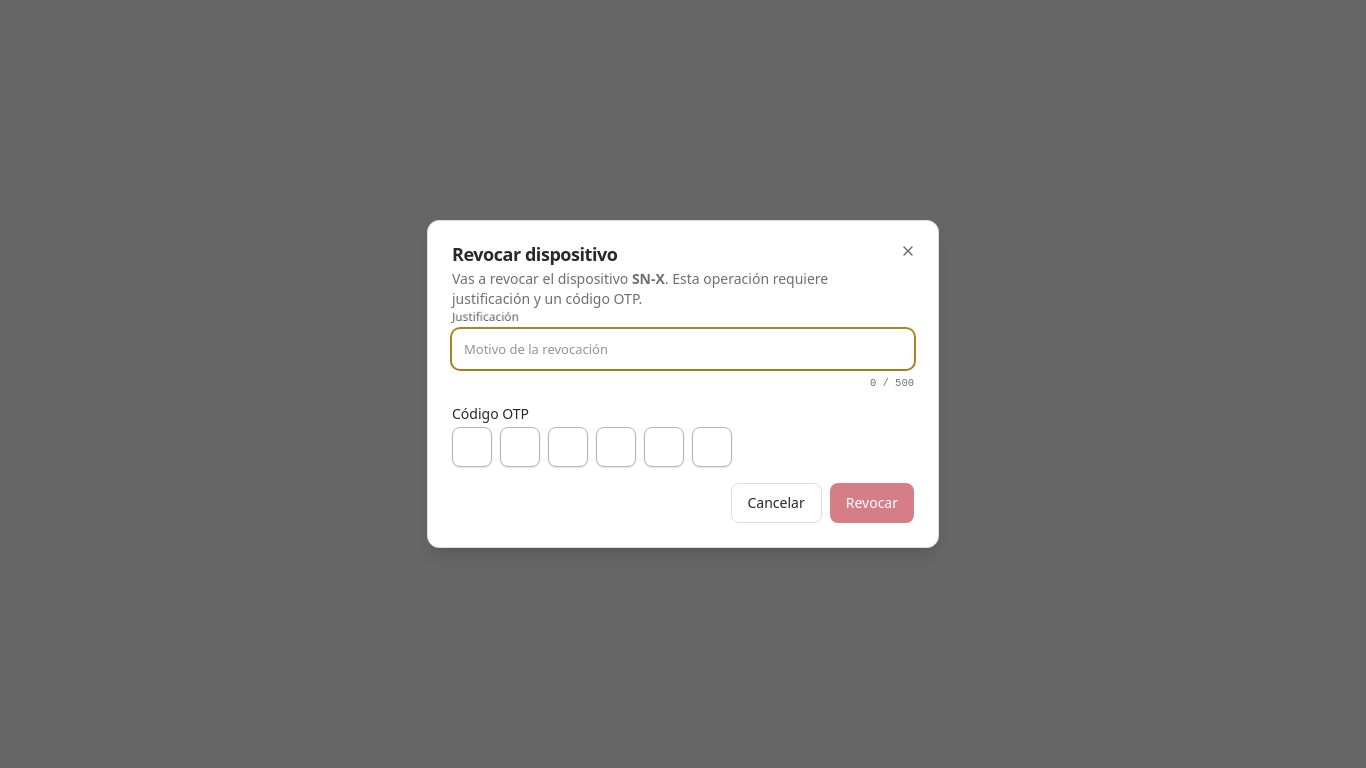
it: DispositivosRevokeDialog › shows conflict error when dispositivo already revoked (API 409)
Type "lost" into the field with test id "revoke-reason" at (683, 349), box x1=452 y1=329 x2=914 y2=369
Type "1" into the field named "Digit" at (472, 447), box x1=452 y1=427 x2=492 y2=467
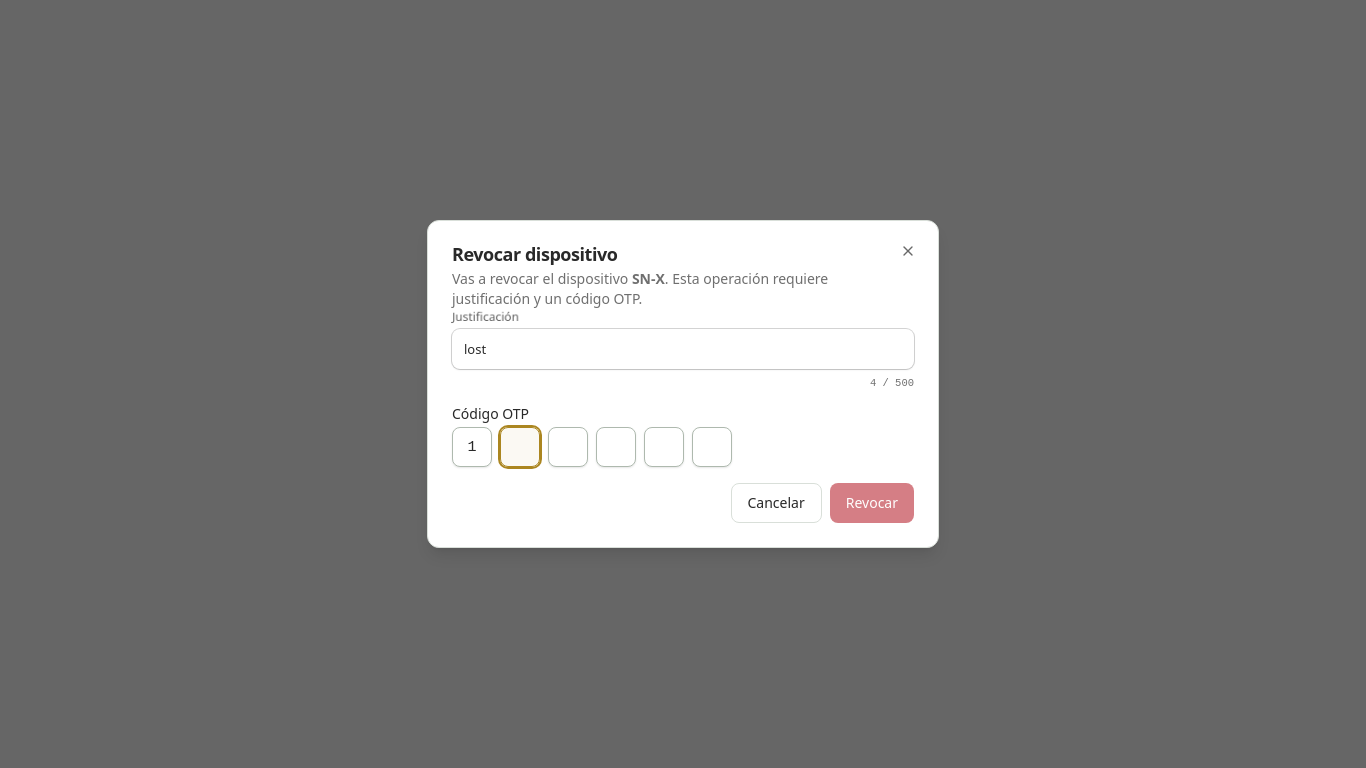
Type "1" into the field named "Digit" at (520, 447), box x1=500 y1=427 x2=540 y2=467
Type "1" into the field named "Digit" at (568, 447), box x1=548 y1=427 x2=588 y2=467
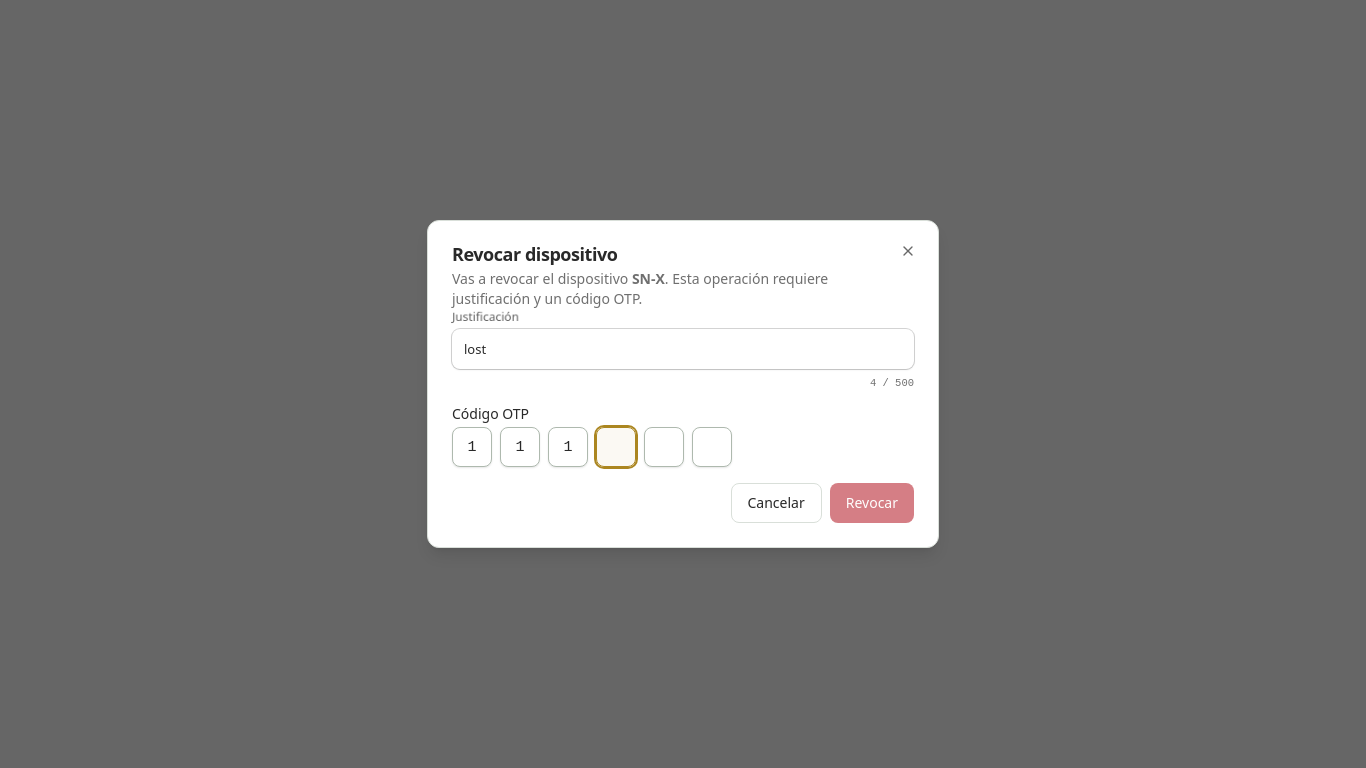
Type "1" into the field named "Digit" at (616, 447), box x1=596 y1=427 x2=636 y2=467
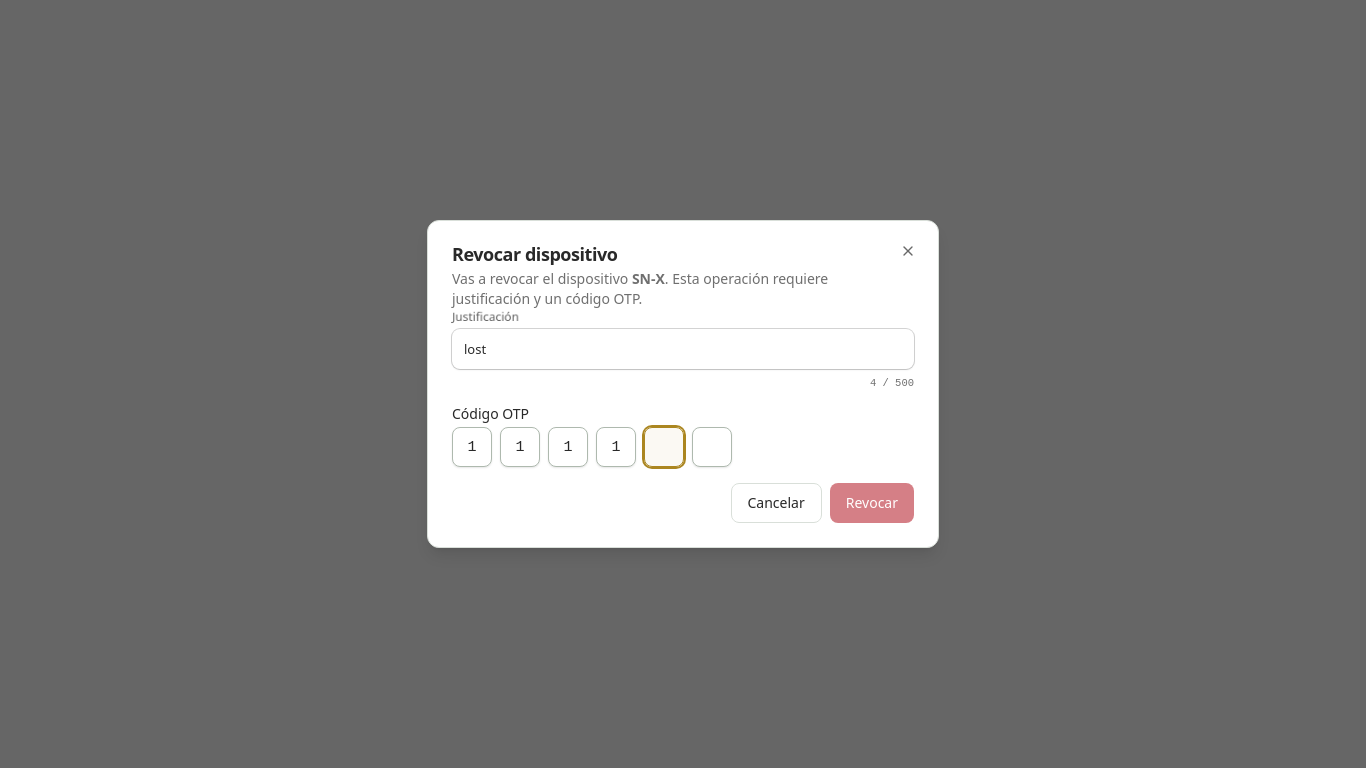
Type "1" into the field named "Digit" at (664, 447), box x1=644 y1=427 x2=684 y2=467
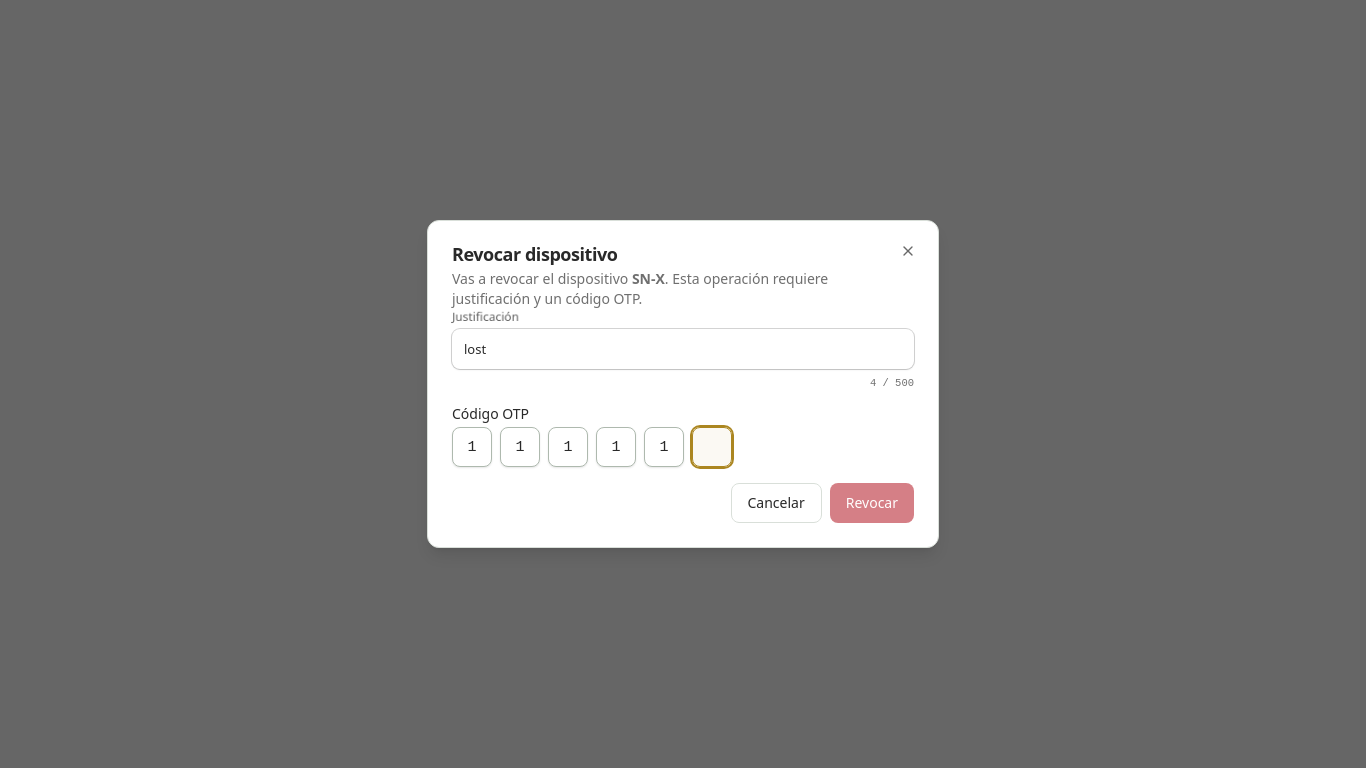
Type "1" into the field named "Digit" at (712, 447), box x1=692 y1=427 x2=732 y2=467
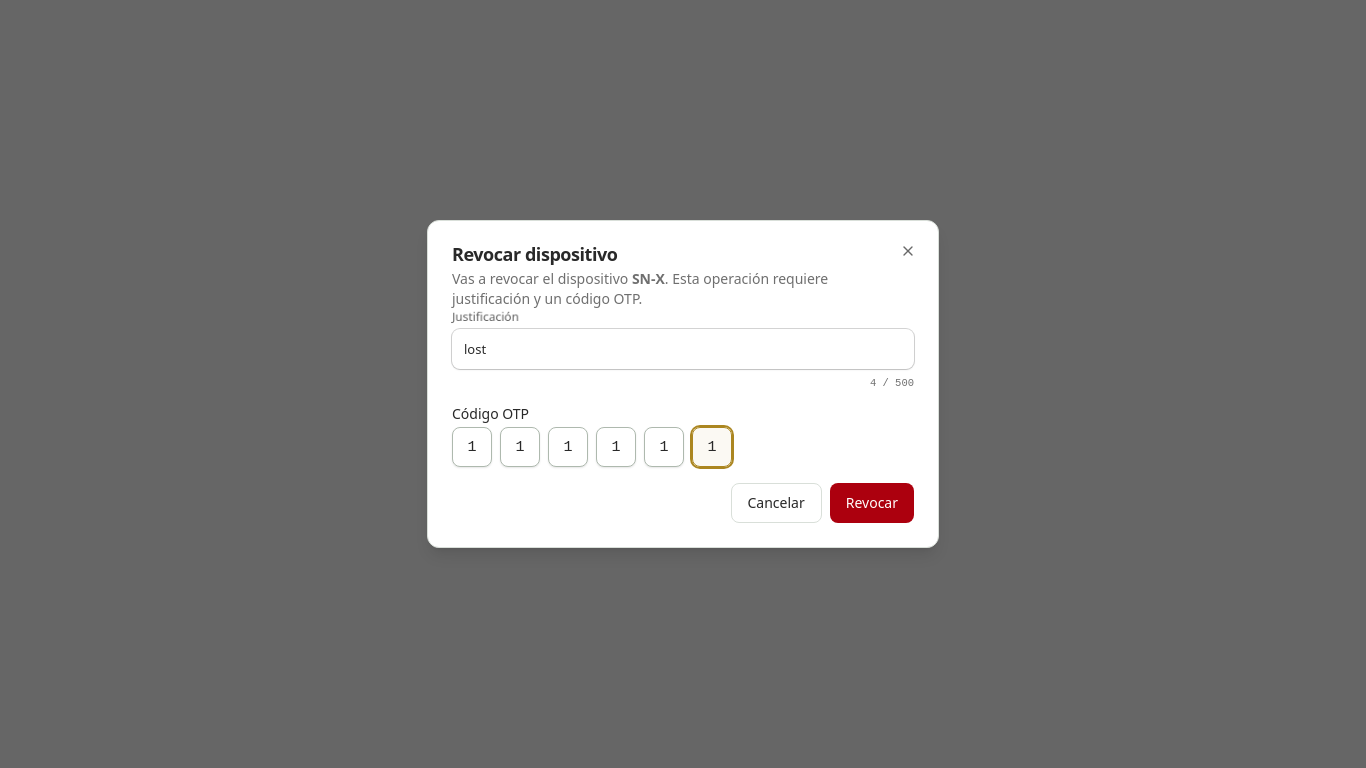
Click the button with test id "revoke-submit" at (872, 503), box x1=830 y1=483 x2=914 y2=523
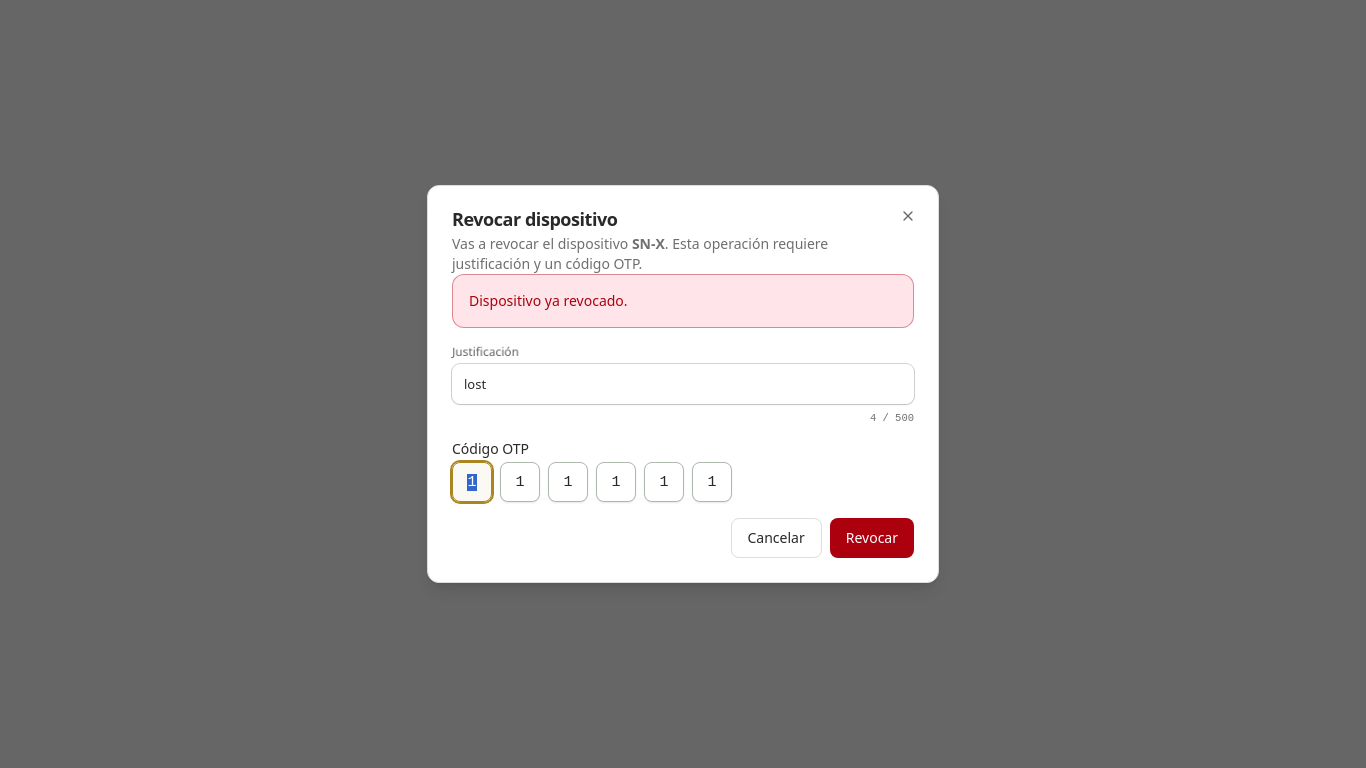
expect the message shows "revocado": met, box x1=469 y1=291 x2=628 y2=310
